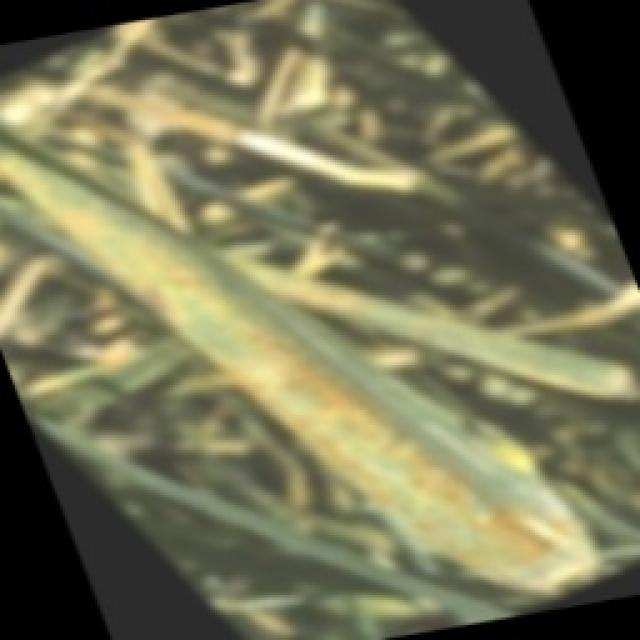Elderberry_rust: (2, 98, 582, 592)
